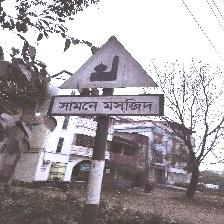Mosque in front: (54, 35, 162, 118)
